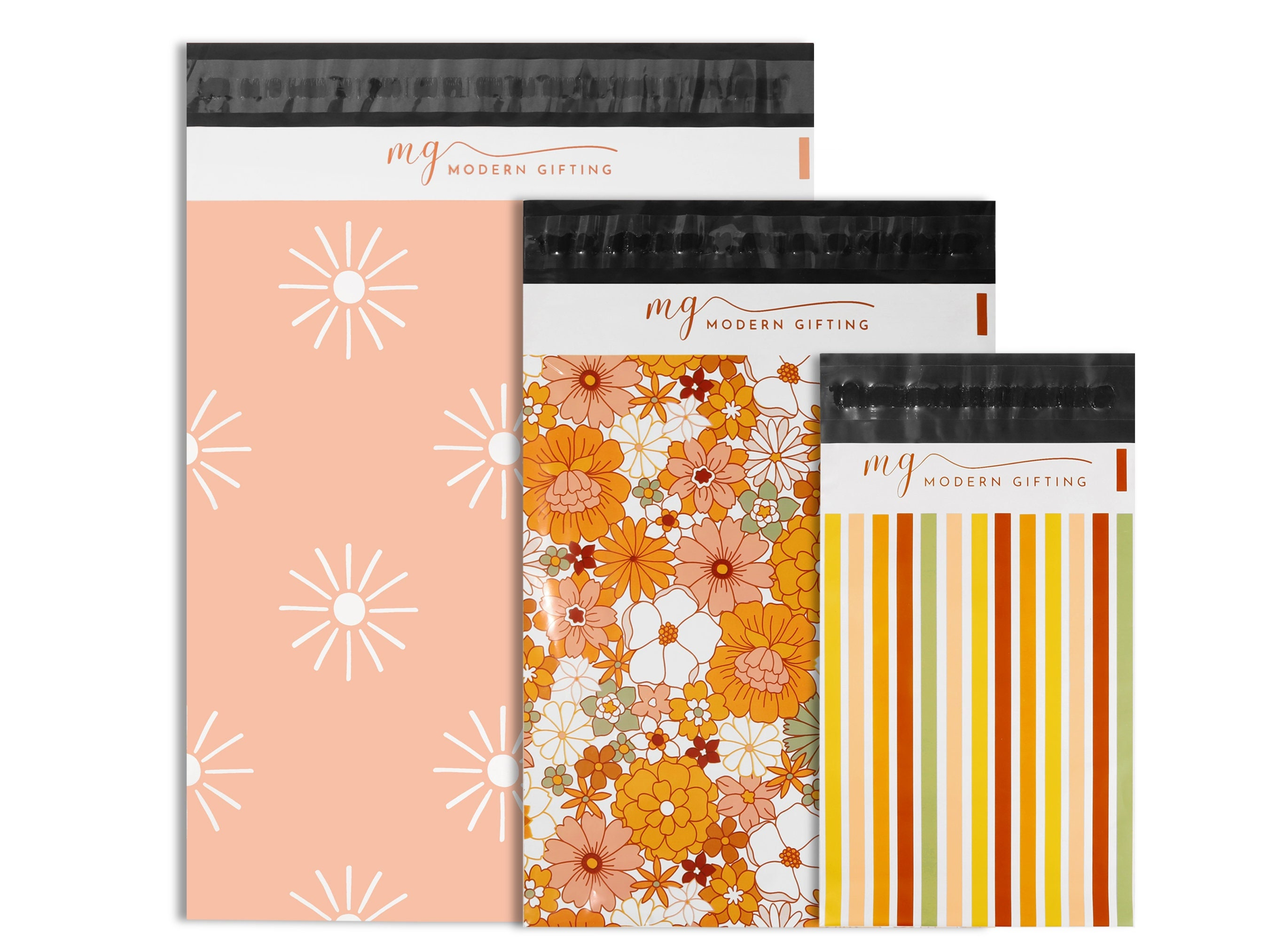Parcel: (188, 44, 816, 925), (527, 201, 997, 930), (821, 353, 1133, 927)
